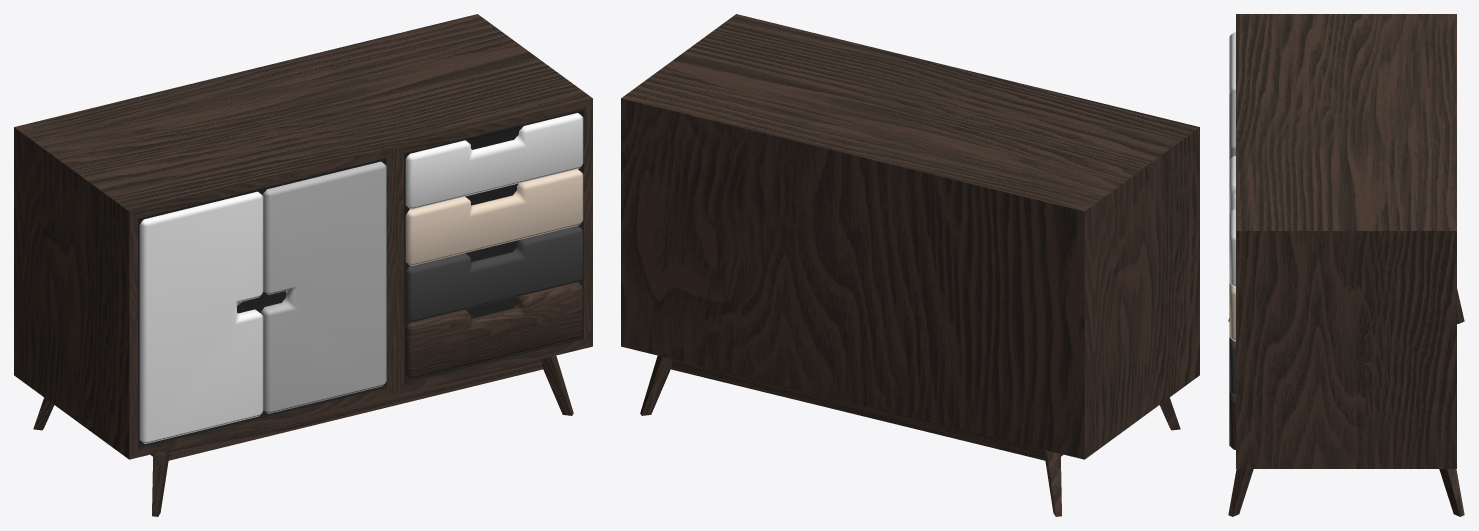
File: dresser_035.fbx
3 renders of one model, left to right at view 1: azimuth 30°, elevation 25°; view 2: azimuth 150°, elevation 25°; view 3: azimuth 270°, elevation 25°, orthographic. The views are drawn at different scales.
Parts seen in each view (by area): view 1: dresser_035; view 2: dresser_035; view 3: dresser_035.
Boxes of the visible parts, x1,y1,x2,y2 form: dresser_035: (14, 14, 592, 516); dresser_035: (621, 14, 1199, 516); dresser_035: (1228, 14, 1464, 516).
Bounding box in the file's own units: 161 × 74.07 × 102.
